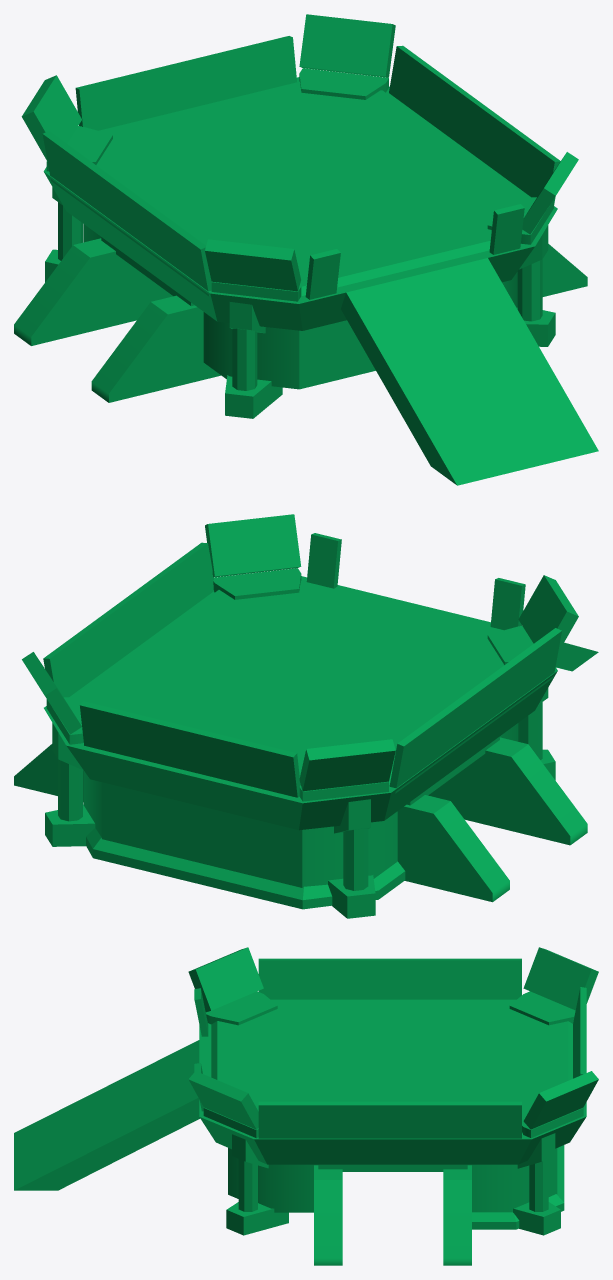
The model's file is SM_Bld_Corp_LandingPad_02_Collision.fbx.
3 views of the same model, one above another, from view 1: azimuth 30°, elevation 25°; view 2: azimuth 150°, elevation 25°; view 3: azimuth 270°, elevation 25° (orthographic). The views are drawn at different scales.
Visible parts, largest first — view 1: SM_Bld_Corp_LandingPad_02_Collision; view 2: SM_Bld_Corp_LandingPad_02_Collision; view 3: SM_Bld_Corp_LandingPad_02_Collision.
Boxes of the visible parts, x1,y1,x2,y2 form: SM_Bld_Corp_LandingPad_02_Collision: [14, 14, 598, 485]; SM_Bld_Corp_LandingPad_02_Collision: [14, 514, 598, 918]; SM_Bld_Corp_LandingPad_02_Collision: [14, 947, 598, 1265].
Bounding box in the file's own units: 1896 × 673 × 2408.
